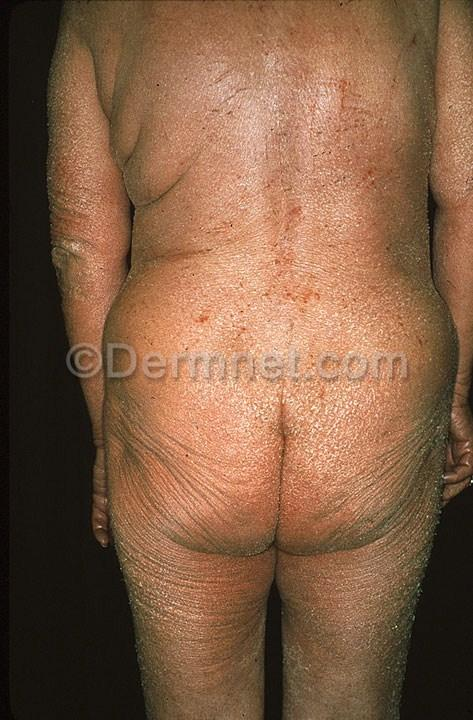Eczema: (216, 0, 385, 142), (224, 162, 355, 330), (363, 481, 425, 627), (119, 529, 208, 624), (37, 132, 110, 229), (425, 37, 473, 179), (304, 383, 380, 472), (203, 382, 274, 474), (192, 299, 239, 337)
